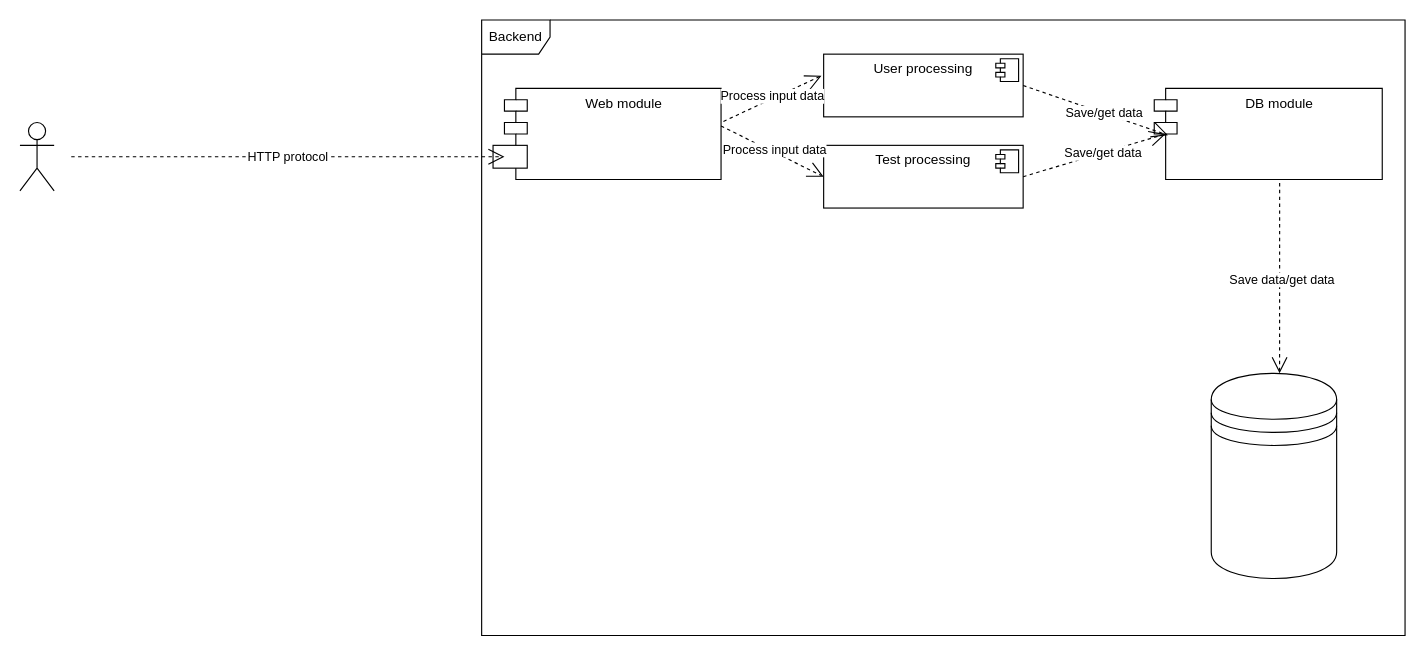
Some shapes in this 1425 by 656 pixel diagram are drawn without their labels. Here are the shapes that lost their labels. From the top down, the box of each, then its label:
(19, 121, 54, 191): Client
(1210, 372, 1337, 579): Sqlite DB
